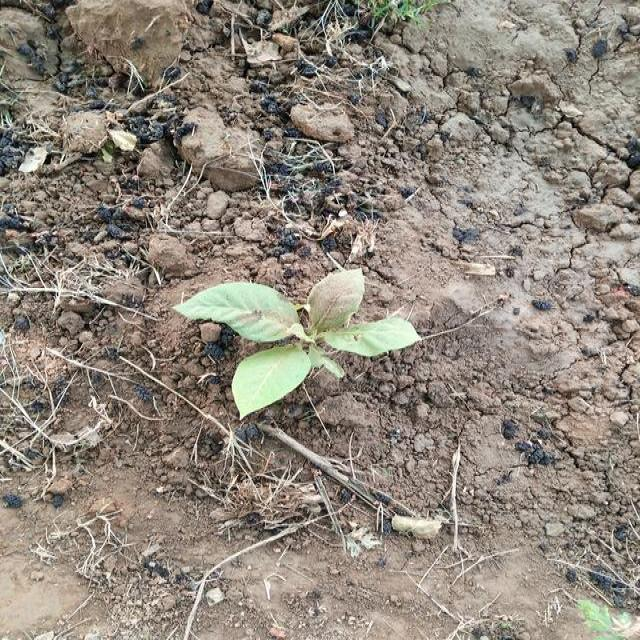crop: (182, 267, 416, 413)
